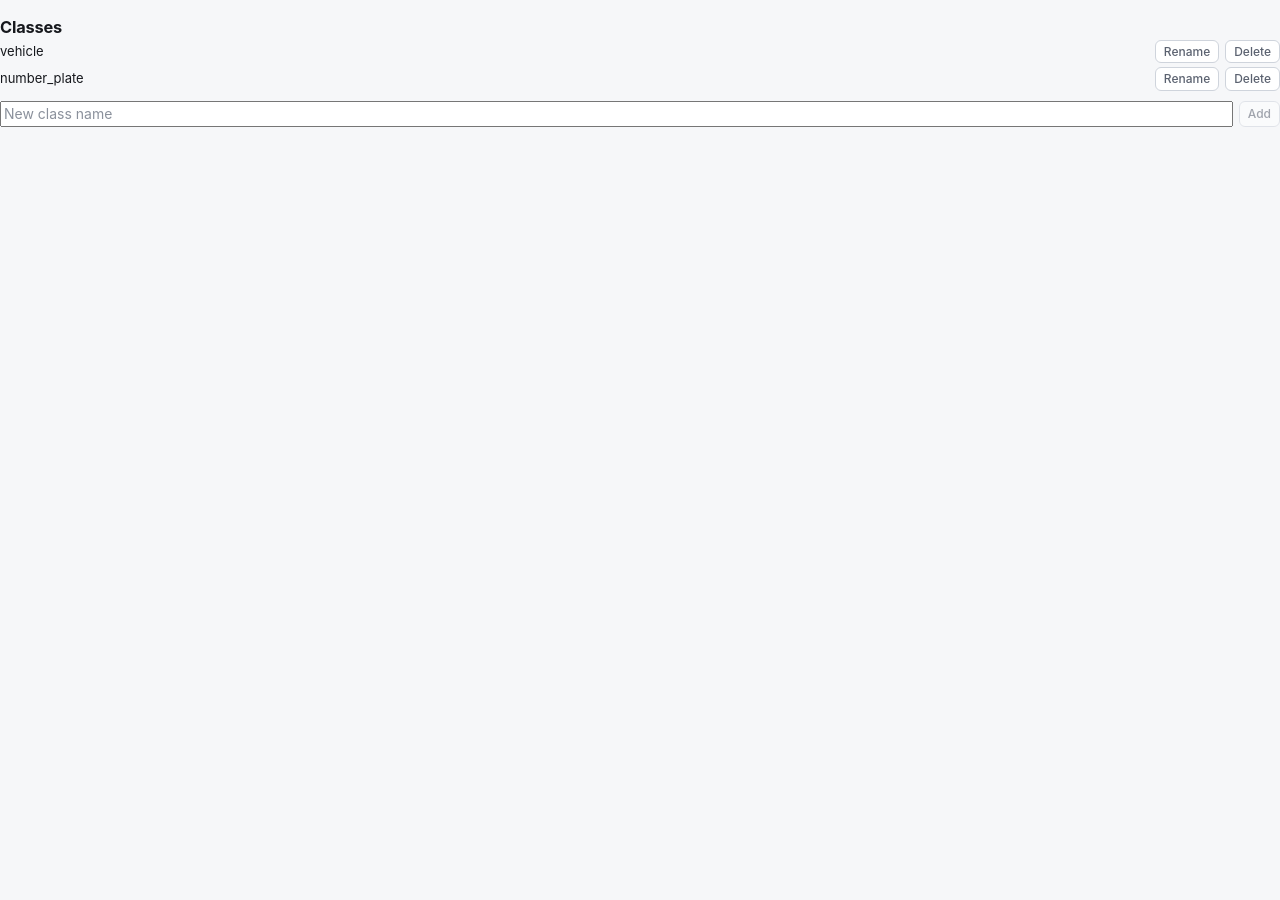
Test case: ClassSchemaEditor › closes the prompt on Escape and keeps the class
Click the button with aria-label "delete number_plate" at (1253, 79), box [1225, 67, 1279, 90]
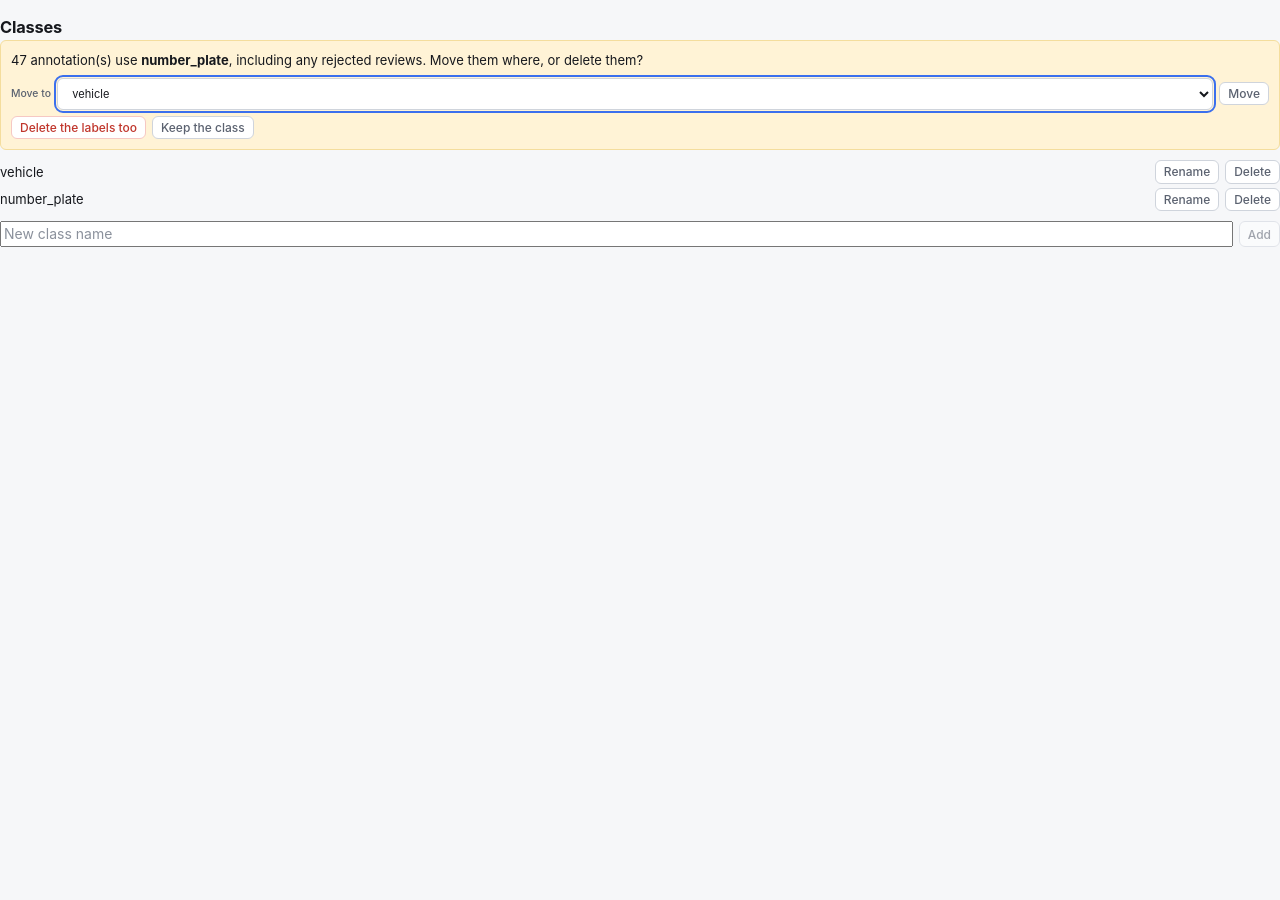
Press Escape in the dialog, box [0, 40, 1279, 150]
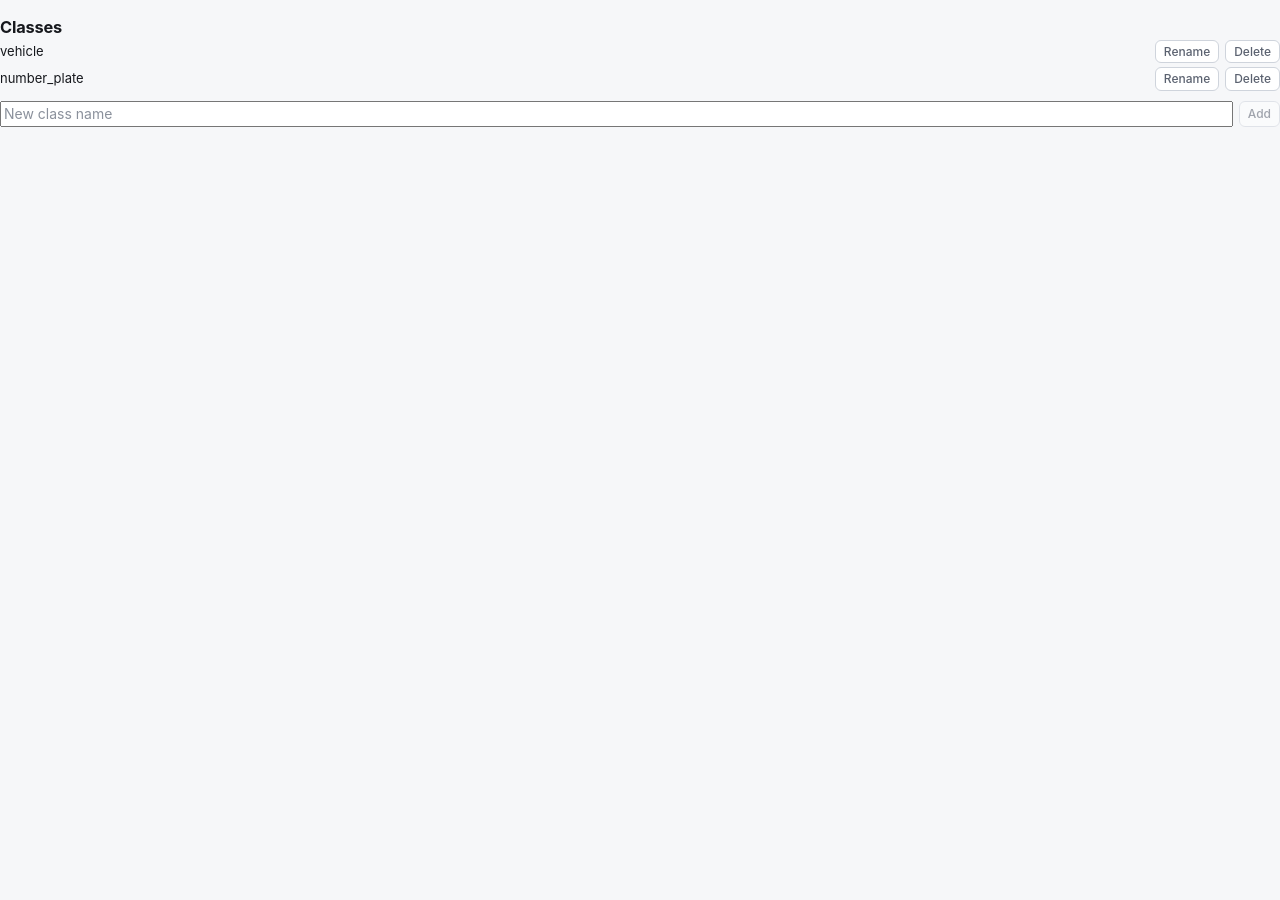
Check: the dialog is gone
